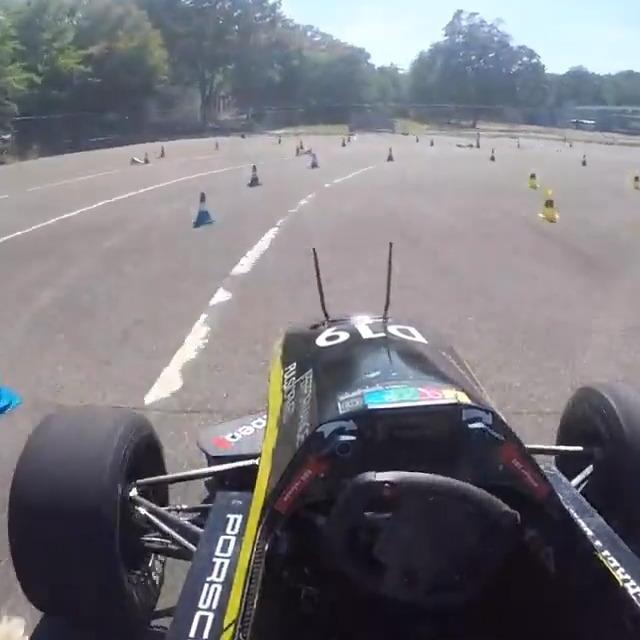Safety Cone: (534, 186, 561, 225), (188, 191, 219, 224), (246, 160, 260, 197), (528, 170, 539, 190), (385, 144, 396, 163), (632, 168, 640, 190), (309, 154, 320, 169), (143, 151, 150, 169), (300, 147, 314, 156), (130, 156, 142, 164), (295, 143, 301, 157), (490, 147, 496, 161), (214, 141, 221, 151), (277, 135, 283, 146), (582, 154, 587, 166), (476, 138, 481, 149), (341, 138, 347, 147), (429, 138, 434, 146), (347, 135, 351, 142), (416, 136, 420, 143)
vehicle: (11, 311, 640, 640)
